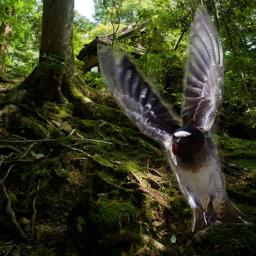Swallow: (97, 4, 253, 232)
